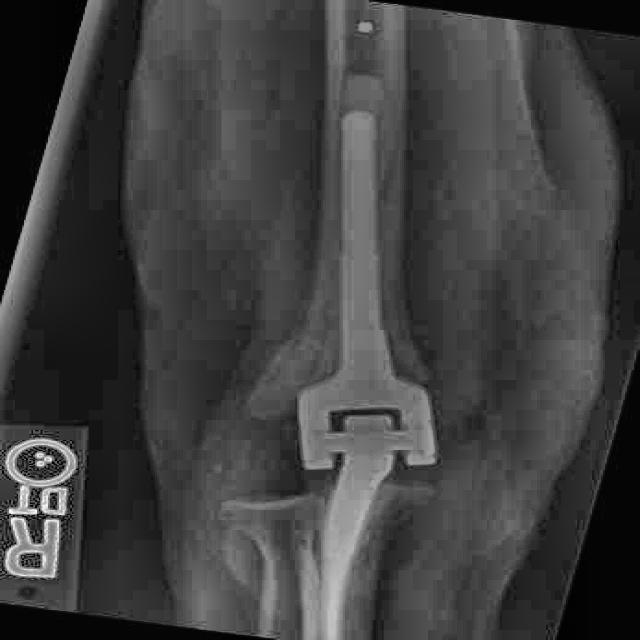elbow positive: (251, 306, 336, 411)
